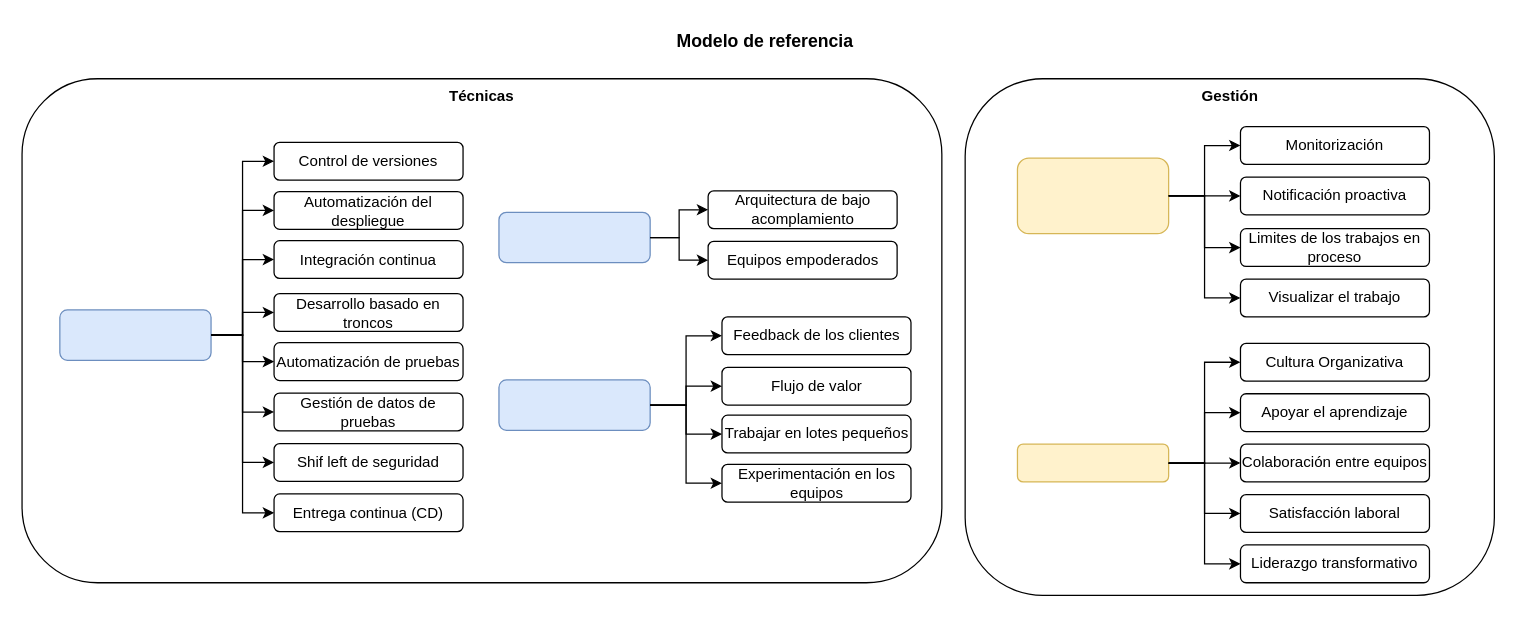
The diagram is 1518 pixels wide and 617 high, and some of its shapes have lost their labels. The centre of each missing label's shape, as x and y in pixels:
Arquitectura: [574,237]
Cultura: [1092,462]
Entrega continua: [135,334]
Gestión Lean y Monitorización: [1092,195]
Producto y Procesos: [574,404]
